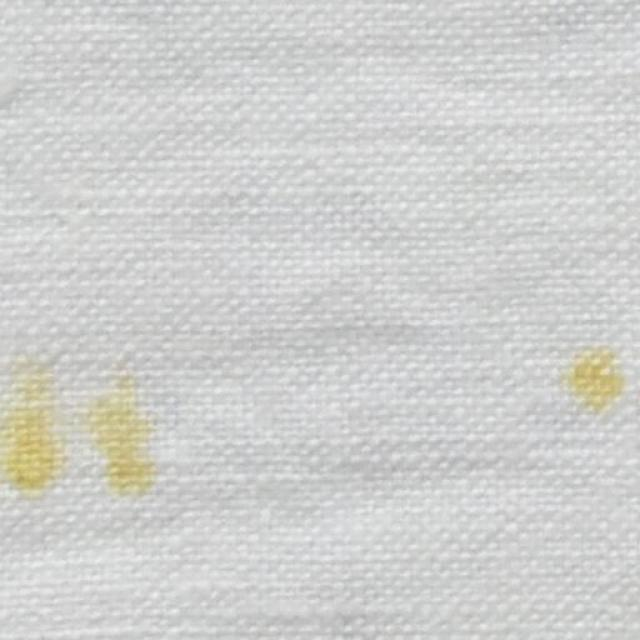Stain: (91, 391, 155, 490), (4, 378, 61, 482), (570, 349, 628, 412)
